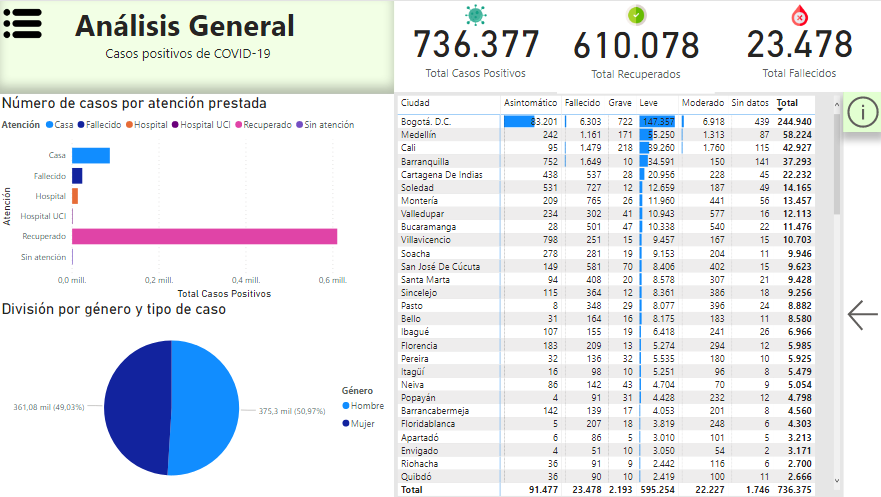

Layout of this report page (visuals, bound fields, positions):
{"tool":"powerbi","page":{"name":"Análisis General","canvas":[1280,720],"ordinal":1},"visuals":[{"type":"barChart","title":"Número de casos por atención prestada","fields":{"Category":["DimAtención.Atención"],"Series":["DimAtención.Atención"],"Y":["Fact Casos Covid.Total Casos Positivos"]},"box":[0,134.5,572.5,300.7],"z":0},{"type":"card","fields":{"Values":["Fact Casos Covid.TotalCasosPositivos"]},"box":[572.9,0,235.7,130.9],"z":1000},{"type":"pieChart","title":"División por género y tipo de caso","fields":{"Category":["Fact Casos Covid.Género","DimTipo.Tipo"],"Y":["CountNonNull(Fact Casos Covid.Género)"]},"box":[0,432.1,572.9,288.1],"z":2000},{"type":"textbox","box":[0,0,572.5,134.5],"z":3000},{"type":"pivotTable","fields":{"Rows":["DimCiudad.Ciudad"],"Values":["Fact Casos Covid.Total Casos Positivos"],"Columns":["DimEstado.Estado"]},"box":[572.9,130.9,649.8,589.3],"z":4000},{"type":"image","box":[572.9,0,235.7,40.9],"z":5000},{"type":"card","fields":{"Values":["Fact Casos Covid.Total Recuperados"]},"box":[808.6,0,227.5,134.2],"z":6000},{"type":"card","fields":{"Values":["Fact Casos Covid.Total Fallecidos"]},"box":[1036.1,0,243.9,130.9],"z":7000},{"type":"image","box":[808.6,0,227.5,40.9],"z":8000},{"type":"image","box":[1036.1,0,243.9,40.9],"z":9000},{"type":"actionButton","box":[1223.1,189.4,56.4,530.6],"z":10000},{"type":"actionButton","box":[1221.7,131.6,57.8,57.8],"z":16000},{"type":"image","box":[0,0,70.8,65.1],"z":19000}]}

Visuals, with their boxes in screenshot pixels (x1, y1, x2, y2), scaled from the page's 1280x720 canvas onto the 881x497 screenshot:
"Número de casos por atención prestada" barChart: box=[0, 93, 394, 300]
card - Fact Casos Covid.TotalCasosPositivos: box=[394, 0, 557, 90]
"División por género y tipo de caso" pieChart: box=[0, 298, 394, 496]
textbox: box=[0, 0, 394, 93]
pivotTable - DimCiudad.Ciudad x Fact Casos Covid.Total Casos Positivos: box=[394, 90, 842, 496]
image: box=[394, 0, 557, 28]
card - Fact Casos Covid.Total Recuperados: box=[557, 0, 713, 93]
card - Fact Casos Covid.Total Fallecidos: box=[713, 0, 880, 90]
image: box=[557, 0, 713, 28]
image: box=[713, 0, 880, 28]
actionButton: box=[842, 131, 880, 496]
actionButton: box=[841, 91, 880, 131]
image: box=[0, 0, 49, 45]
